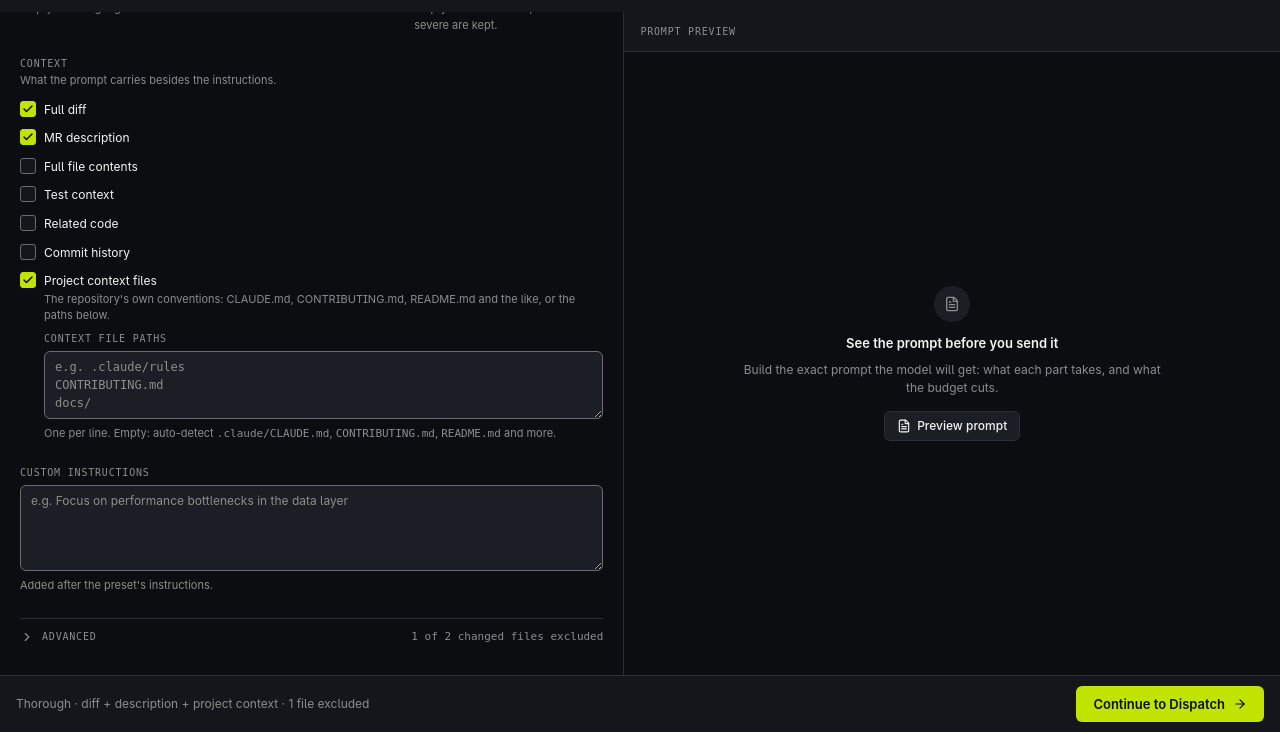
Test case: BriefStage — advanced › shows how many files the path filters exclude and lets one be reviewed anyway
(page scrolled)
Click the button "Advanced 1 of 2 changed files excluded".
click(69, 637)  # box [20, 619, 603, 655]
(page scrolled)
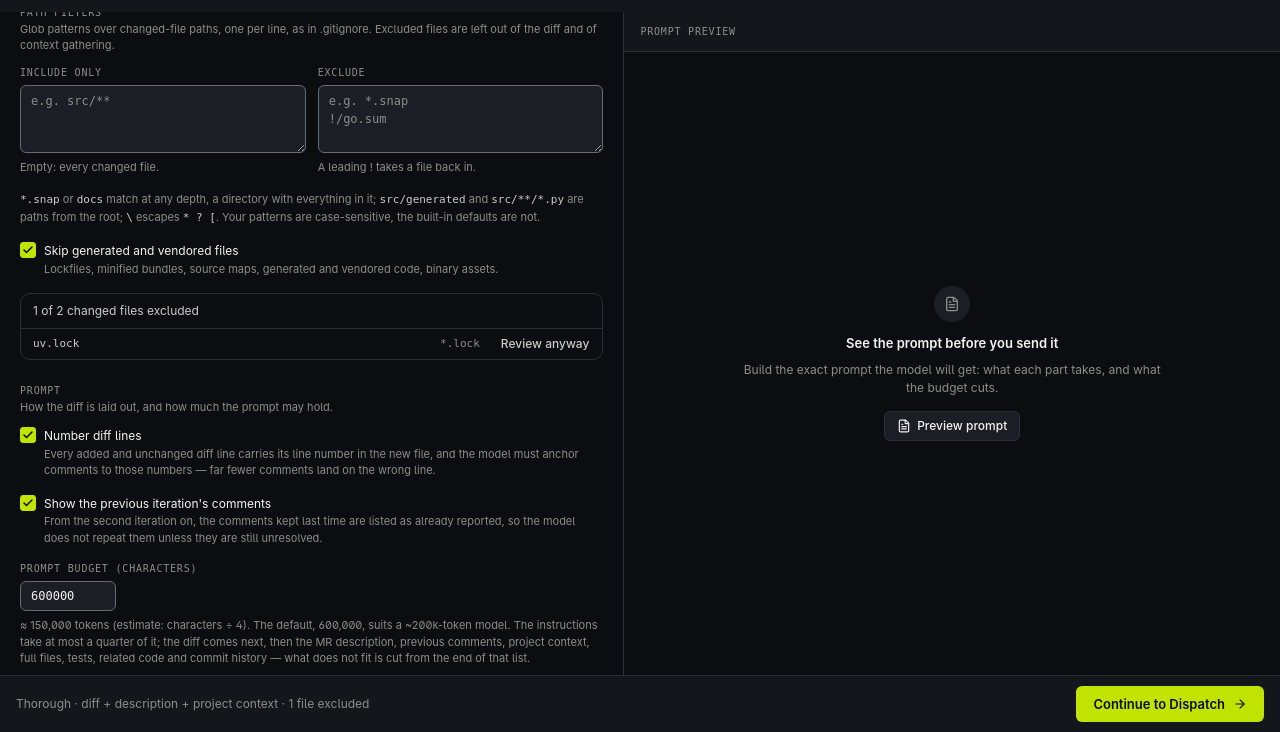
Click the button with aria-label "Review anyway: uv.lock".
click(545, 344)  # box [492, 332, 598, 356]
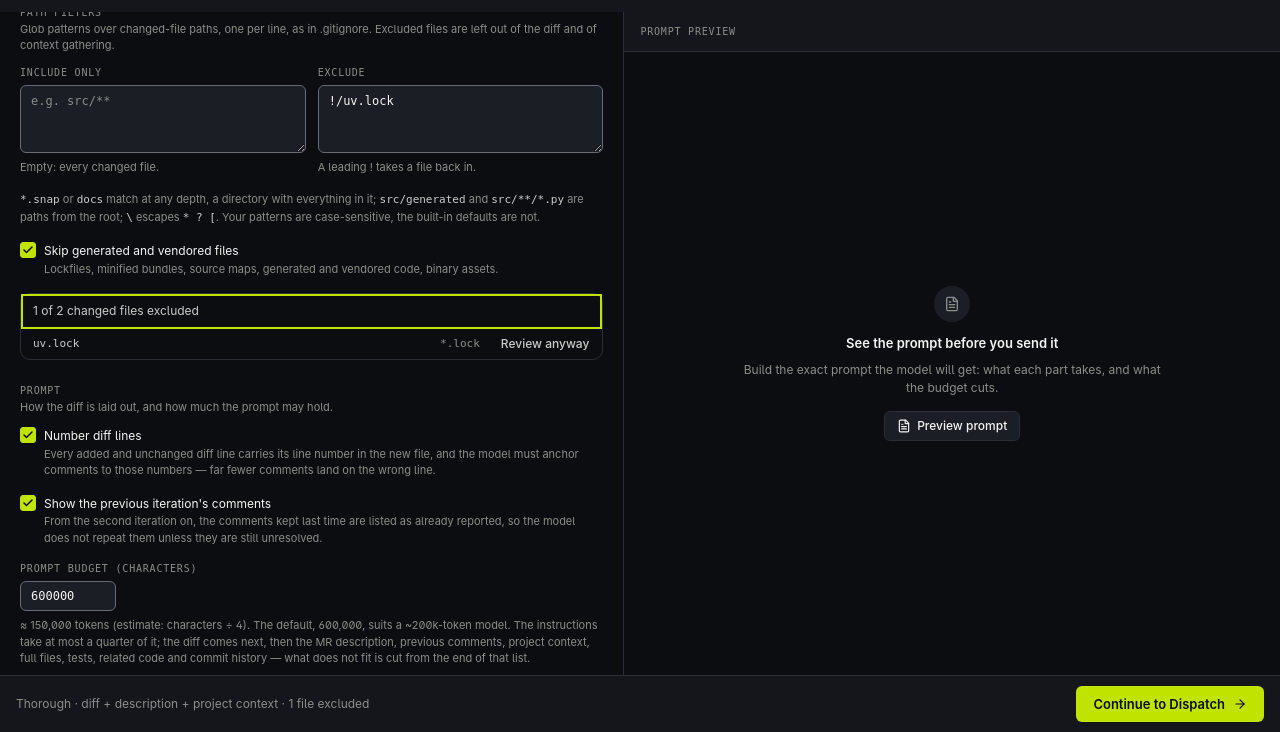
Expected: the text box labelled "Exclude" holds "!/uv.lock", [318, 85, 603, 153]
